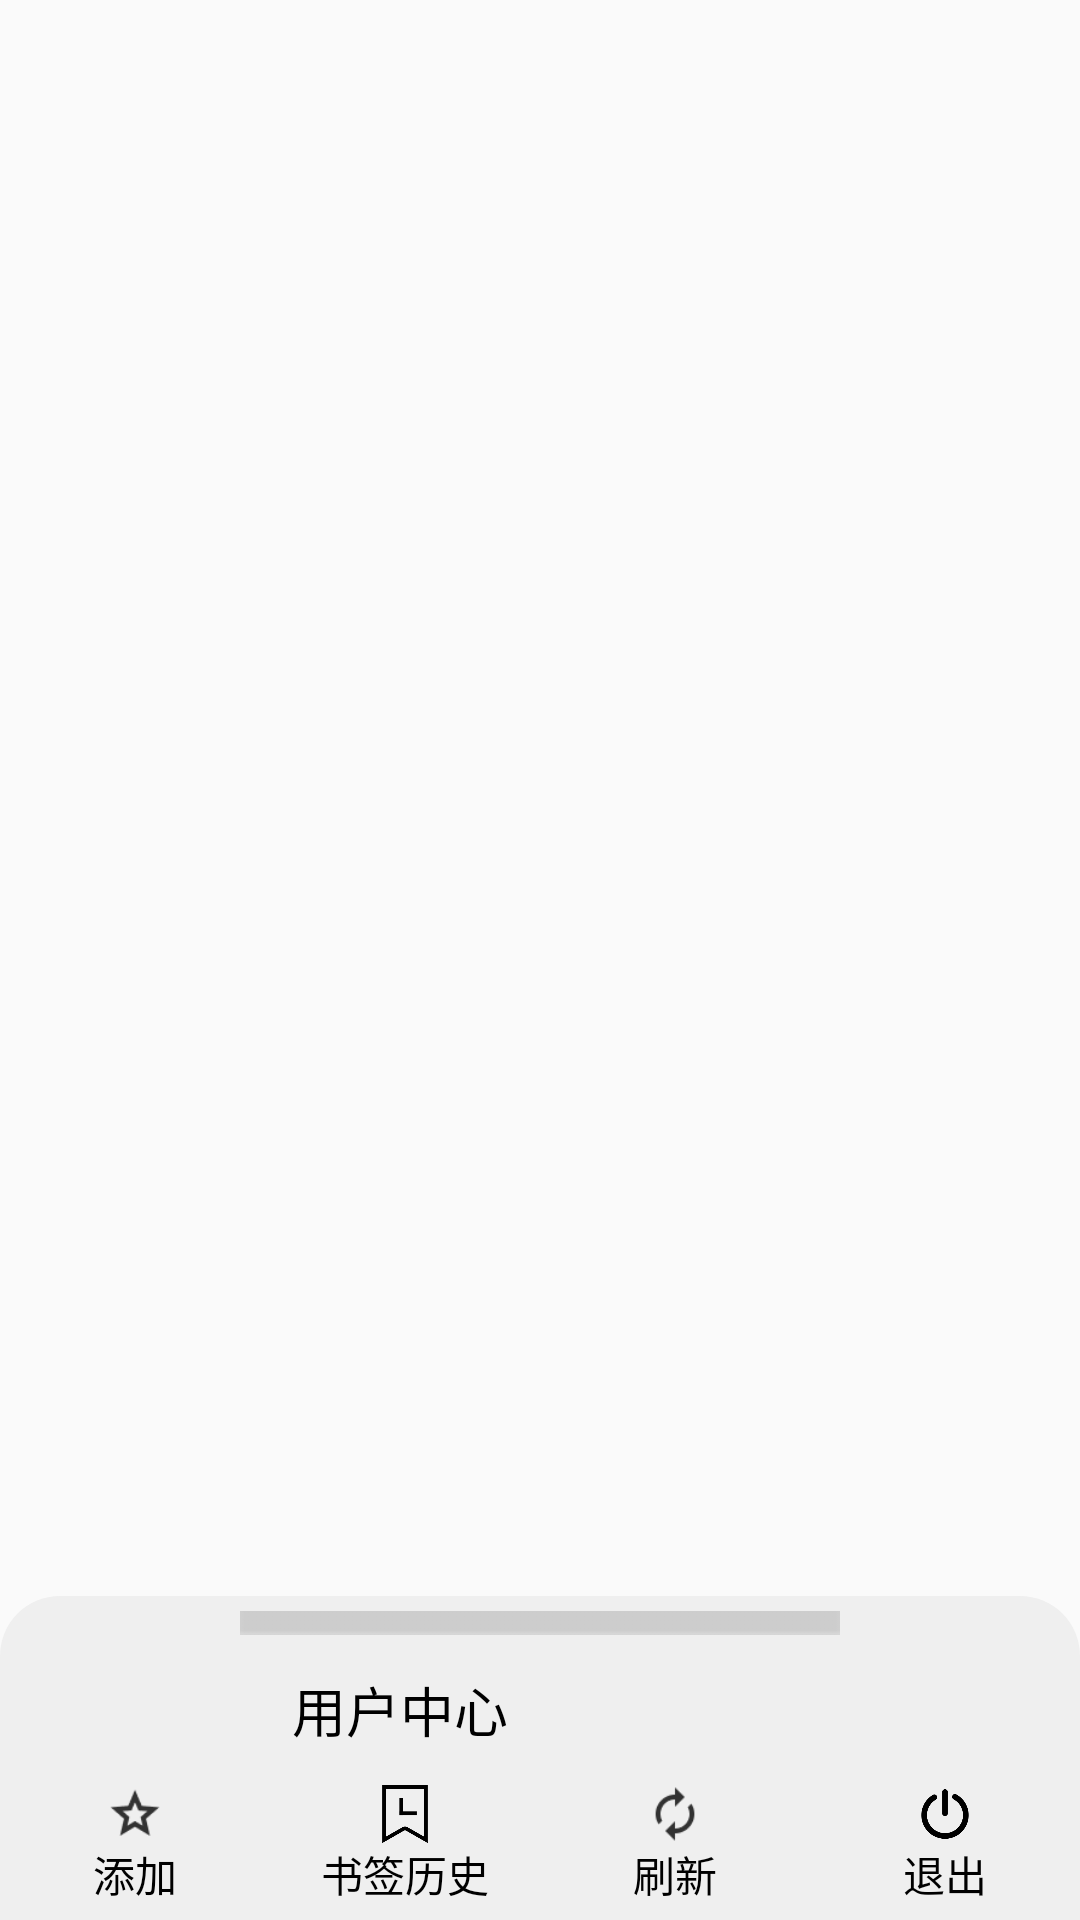

Named icons in this screenshot (1080px×1920px) and their bounding boxes, (x1, y1, x2, y2):
uncollected: (111, 1790, 159, 1836)
